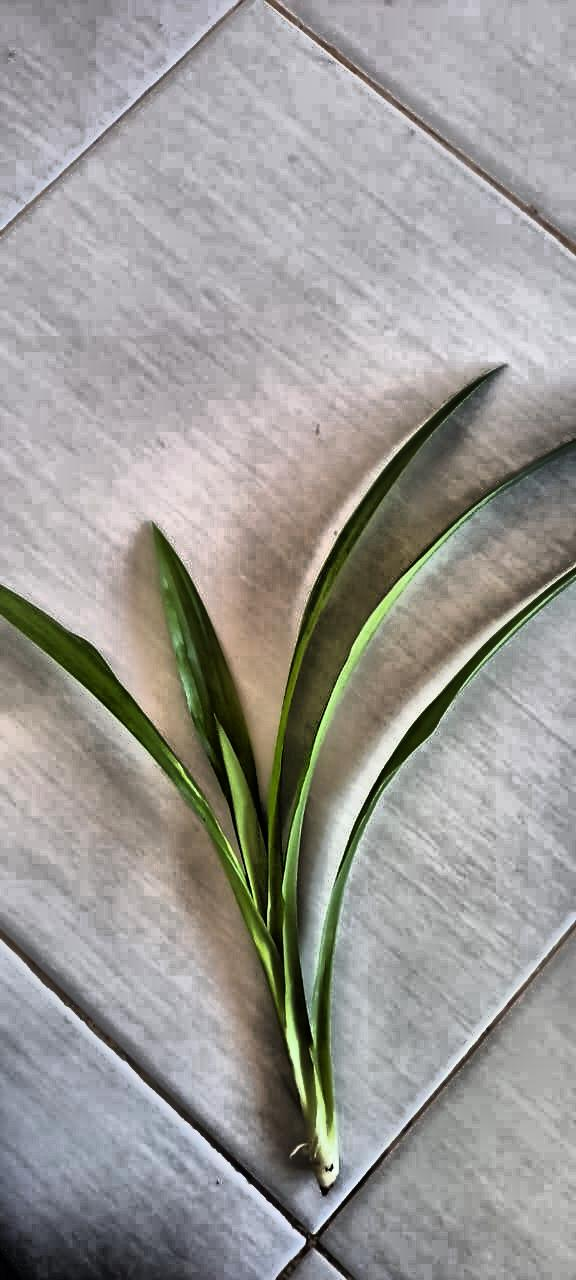daun pandan: (0, 371, 575, 1193)
